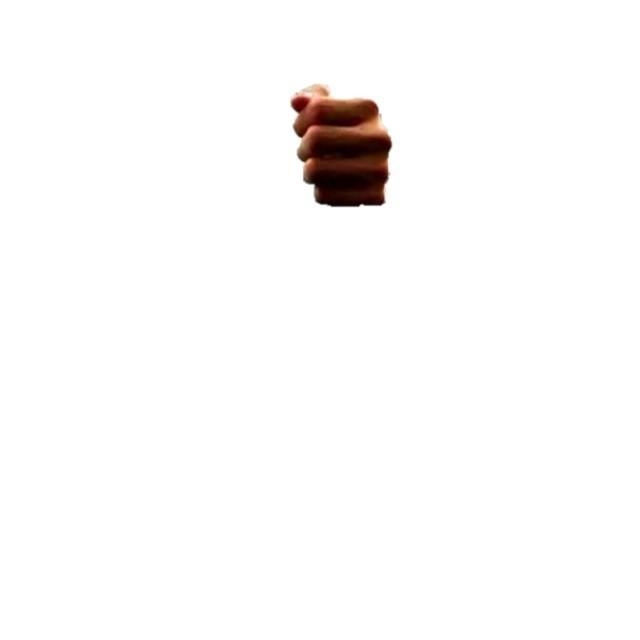gu-: (290, 83, 393, 209)
